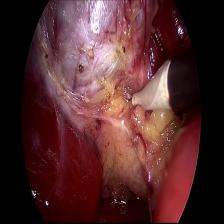Hook: (126, 57, 183, 119)
